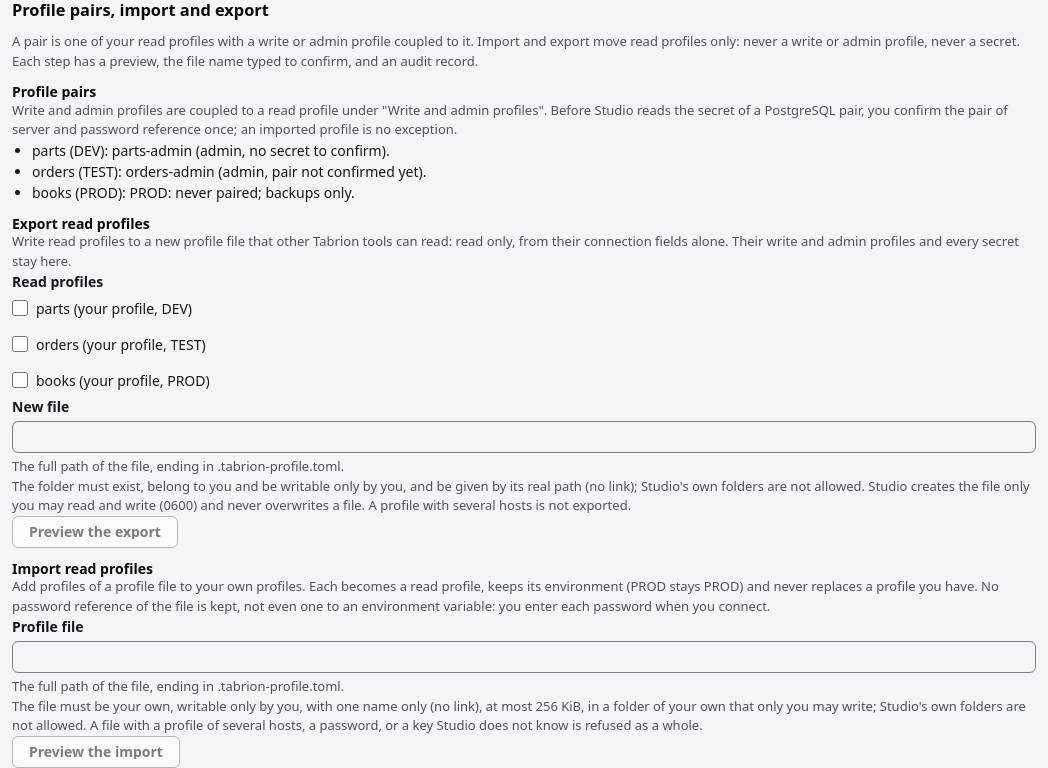
Test: profile pairs, import and export (STU-XDM-5) › asks before it rewrites a profiles file written by hand
Type "/home/u/exchange/in.tabrion-profile.toml" into the field with test id "dbm-import-path". click: (524, 658)
box: [12, 642, 1036, 674]
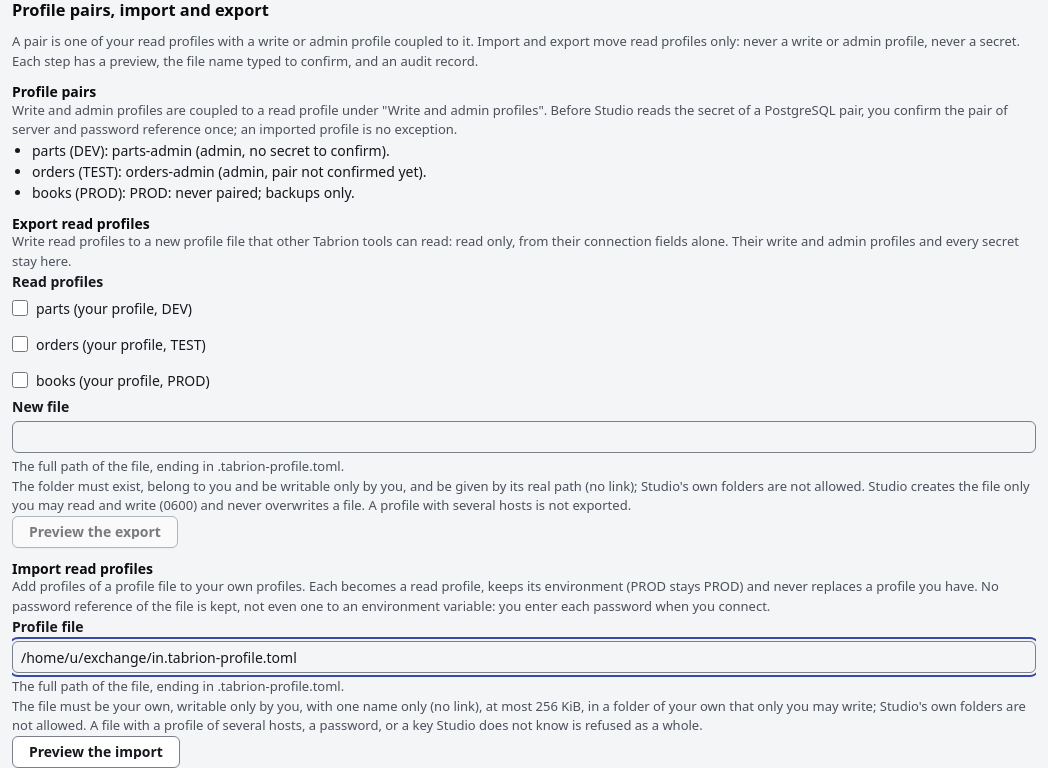
Click the button with test id "dbm-import-preview". click: (96, 752)
box: [12, 736, 180, 767]
(page scrolled)
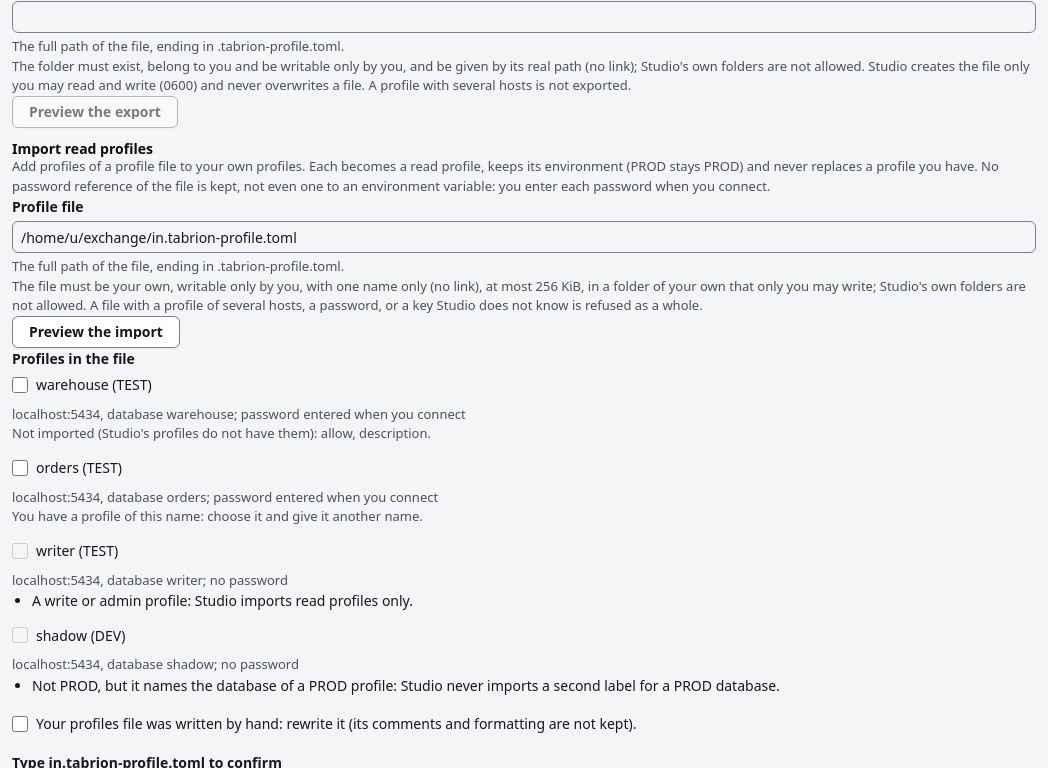
Click the checkbox with test id "dbm-import-pick-0". click: (20, 385)
box: [12, 377, 28, 393]
(page scrolled)
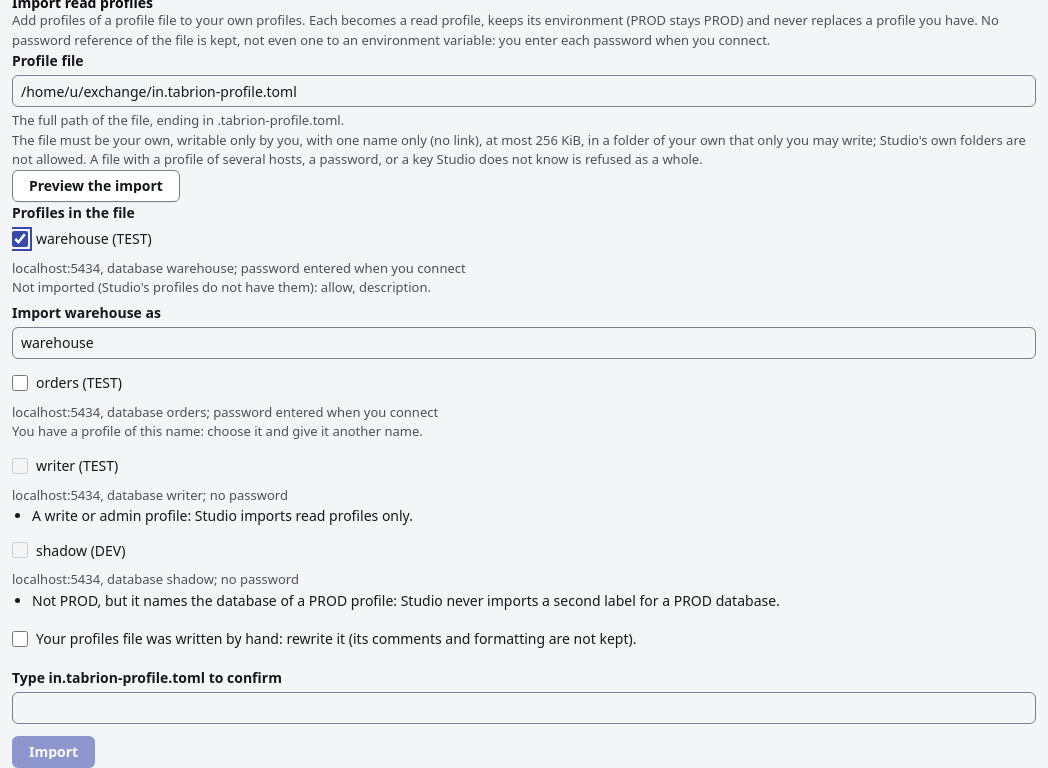
Type "in.tabrion-profile.toml" into the field with test id "dbm-import-typed". click: (524, 708)
box: [12, 692, 1036, 724]
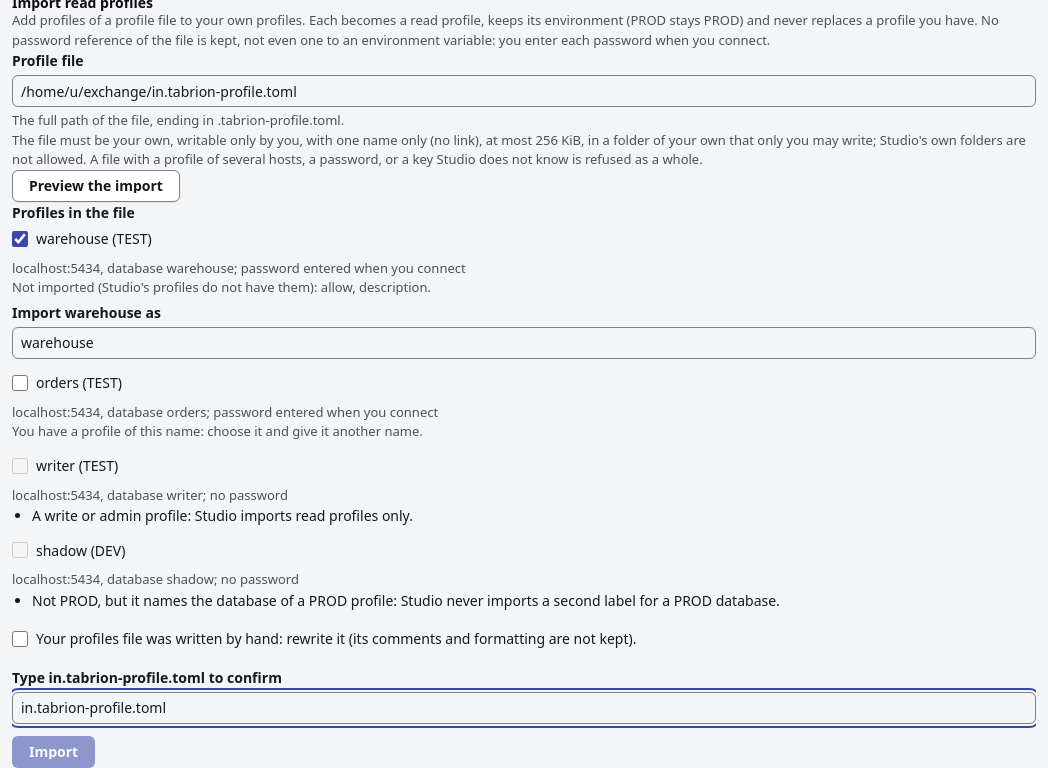
Check: the button with test id "dbm-import-run" is disabled, box [12, 736, 95, 767]
Click the checkbox with test id "dbm-import-overwrite". click: (20, 639)
box: [12, 631, 28, 647]
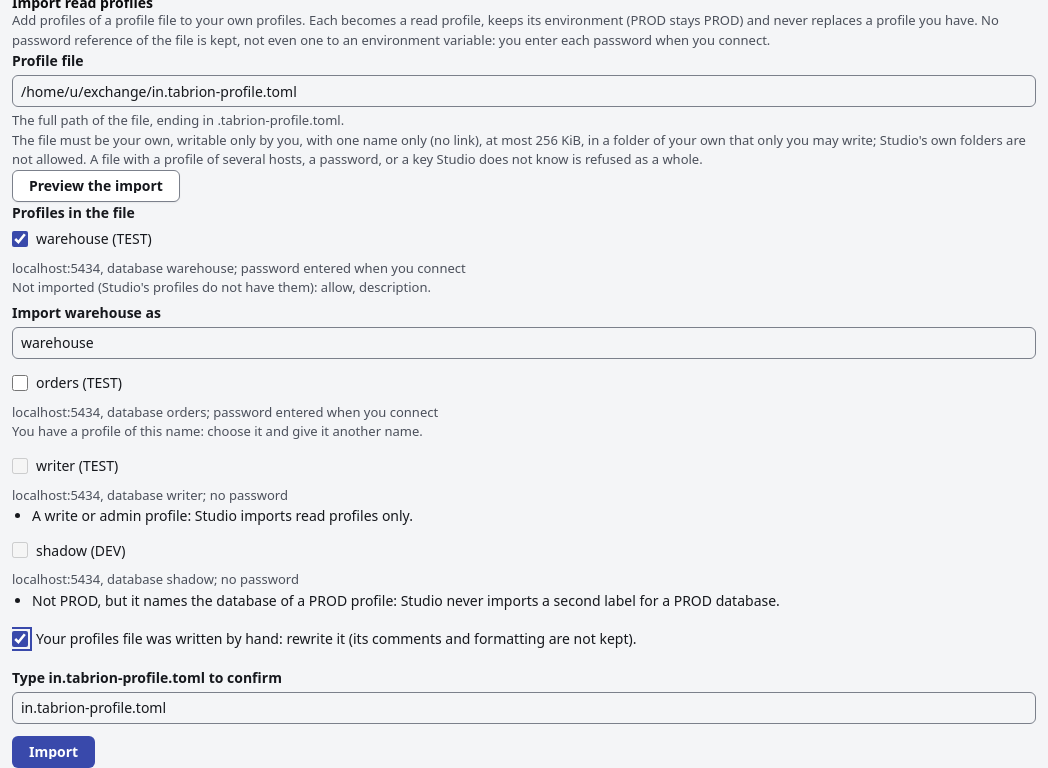
Click the button with test id "dbm-import-run". click: (54, 752)
box: [12, 736, 95, 767]
(page scrolled)
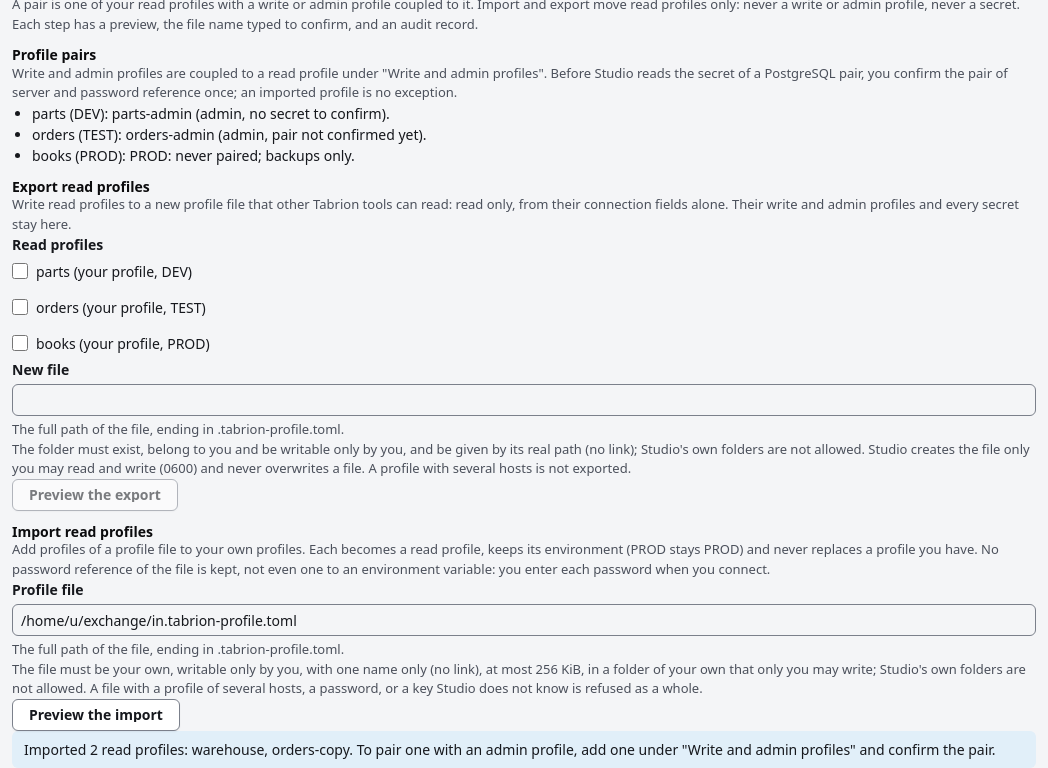
Check: the message with test id "dbm-import-done" is shown, box [12, 731, 1036, 767]
